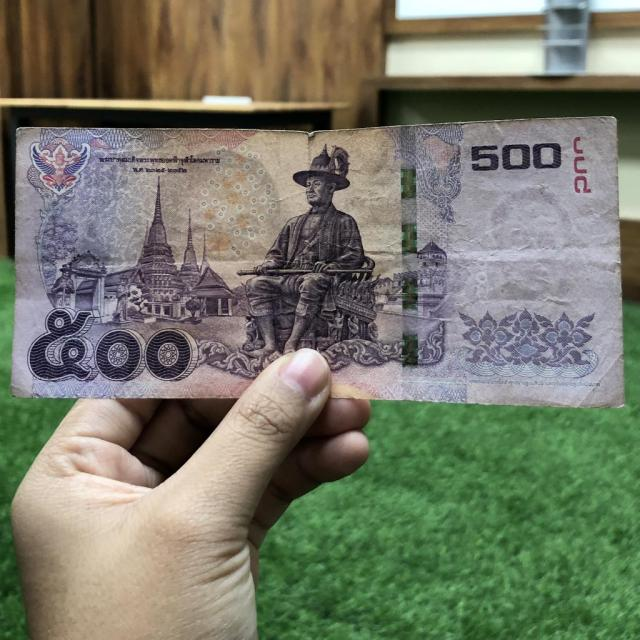THAI500: (12, 118, 622, 406)
